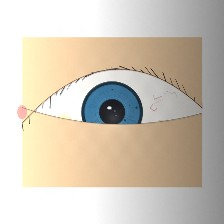pinguecula_lesion: (49, 108, 79, 132)
